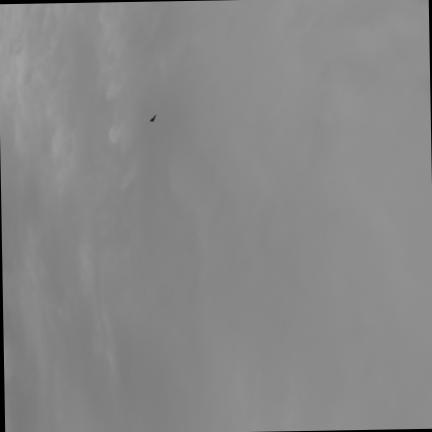Shahed: (149, 114, 155, 121)
